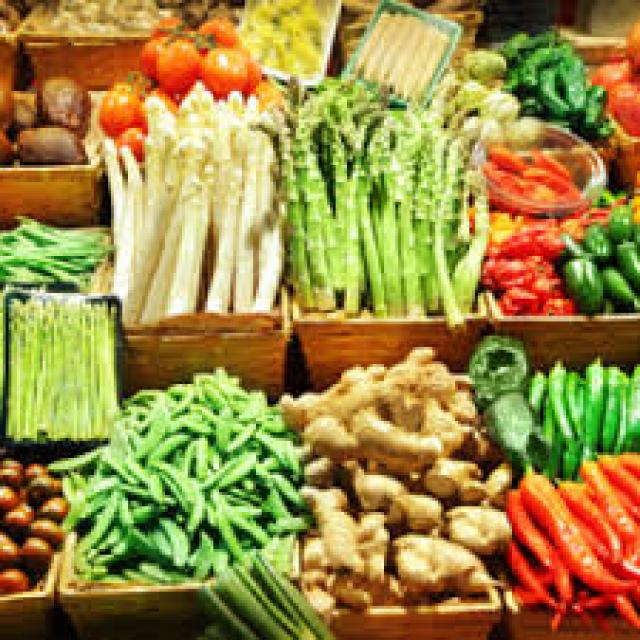organic waste: (74, 446, 219, 572), (148, 82, 216, 316), (119, 367, 279, 466), (6, 290, 111, 435), (185, 430, 296, 563), (521, 470, 637, 594), (282, 71, 332, 310), (197, 91, 250, 310), (503, 484, 569, 626), (344, 94, 387, 310), (264, 120, 313, 307), (387, 102, 429, 310), (216, 560, 324, 638), (364, 119, 407, 313), (330, 68, 364, 310), (117, 145, 165, 316), (352, 8, 443, 96), (429, 100, 464, 327), (247, 549, 333, 637), (248, 105, 284, 302), (0, 214, 94, 288), (390, 532, 492, 594), (412, 108, 441, 313), (478, 387, 543, 469), (142, 446, 202, 532), (549, 480, 617, 554), (350, 412, 441, 467), (205, 91, 239, 236), (170, 174, 204, 316), (108, 136, 139, 288), (228, 125, 253, 313), (316, 102, 341, 288), (145, 452, 205, 529), (467, 333, 526, 407), (94, 125, 122, 276), (250, 0, 313, 63), (575, 458, 637, 520), (575, 518, 637, 580), (196, 580, 262, 637), (23, 211, 111, 253), (455, 173, 481, 313), (416, 452, 486, 503), (31, 0, 168, 26), (441, 501, 509, 552), (154, 26, 199, 100), (504, 538, 554, 603), (34, 74, 88, 134), (202, 489, 245, 563), (8, 120, 82, 162), (302, 409, 358, 464), (381, 338, 441, 389), (302, 480, 358, 534), (282, 378, 352, 421), (552, 250, 600, 310), (100, 74, 150, 131), (333, 358, 387, 409), (253, 475, 304, 526), (515, 37, 569, 85), (139, 14, 182, 74), (546, 356, 575, 444), (418, 396, 464, 450), (381, 489, 438, 532), (71, 489, 114, 546), (353, 509, 387, 578), (196, 40, 242, 91), (0, 32, 26, 122), (592, 447, 637, 498), (529, 57, 569, 114), (489, 222, 558, 253), (375, 378, 421, 424), (347, 463, 407, 498), (213, 498, 264, 538), (603, 77, 637, 136), (210, 450, 259, 490), (296, 532, 353, 566), (142, 88, 176, 145), (560, 376, 580, 472), (595, 498, 637, 543), (583, 352, 603, 443), (597, 262, 637, 307), (438, 384, 481, 424), (521, 162, 580, 191), (17, 228, 102, 248), (125, 410, 165, 452), (478, 250, 526, 284), (100, 446, 140, 486), (583, 54, 634, 85), (159, 509, 188, 563), (122, 524, 165, 560), (31, 256, 88, 282), (330, 569, 367, 609), (444, 74, 484, 111), (620, 361, 637, 447), (600, 358, 617, 444), (458, 46, 501, 80), (150, 426, 188, 464), (416, 358, 452, 398), (0, 242, 102, 256), (270, 461, 304, 503), (194, 12, 234, 46), (236, 51, 265, 97), (42, 449, 116, 466), (532, 216, 580, 242), (299, 569, 330, 609), (244, 71, 282, 103), (546, 421, 566, 481), (534, 381, 554, 441), (577, 219, 609, 256), (512, 566, 552, 595), (114, 120, 148, 154), (481, 82, 515, 116), (447, 120, 455, 262), (612, 367, 626, 447), (609, 239, 637, 279), (526, 367, 549, 415), (302, 449, 336, 481), (17, 532, 51, 563), (603, 205, 634, 239), (208, 364, 242, 395), (557, 228, 586, 264), (489, 142, 529, 168), (578, 82, 600, 128), (9, 91, 34, 131), (500, 284, 538, 310), (136, 558, 185, 578), (566, 60, 586, 108), (28, 512, 62, 540), (364, 569, 401, 594), (526, 145, 566, 168), (620, 17, 637, 71), (0, 267, 65, 281), (501, 28, 529, 60), (609, 589, 637, 620), (0, 560, 28, 591), (111, 560, 159, 578), (538, 290, 574, 313), (125, 521, 157, 546), (523, 250, 549, 279), (580, 586, 612, 609), (0, 500, 28, 526), (116, 489, 134, 529), (0, 529, 20, 563), (23, 475, 57, 495), (208, 381, 228, 415), (122, 384, 162, 401), (219, 495, 259, 512), (82, 563, 111, 586), (518, 28, 554, 46), (526, 276, 558, 296), (498, 60, 523, 85), (518, 173, 554, 190), (0, 122, 14, 165), (0, 455, 20, 484), (614, 446, 638, 469), (574, 202, 606, 219), (54, 469, 77, 492), (188, 372, 208, 396), (37, 492, 65, 509), (165, 384, 199, 398), (592, 114, 612, 136), (518, 94, 543, 111), (0, 484, 14, 509), (492, 168, 515, 182), (74, 466, 91, 484), (74, 549, 91, 566), (22, 461, 42, 475), (126, 424, 140, 444), (620, 544, 637, 560)
